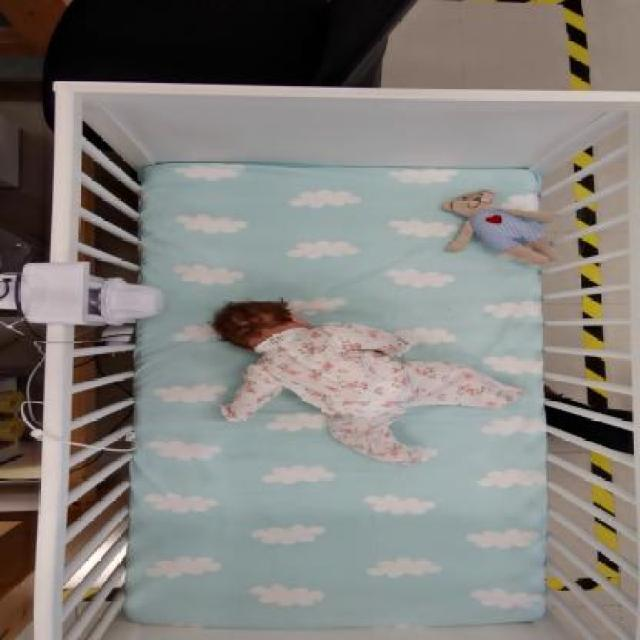baby: (205, 295, 527, 467)
